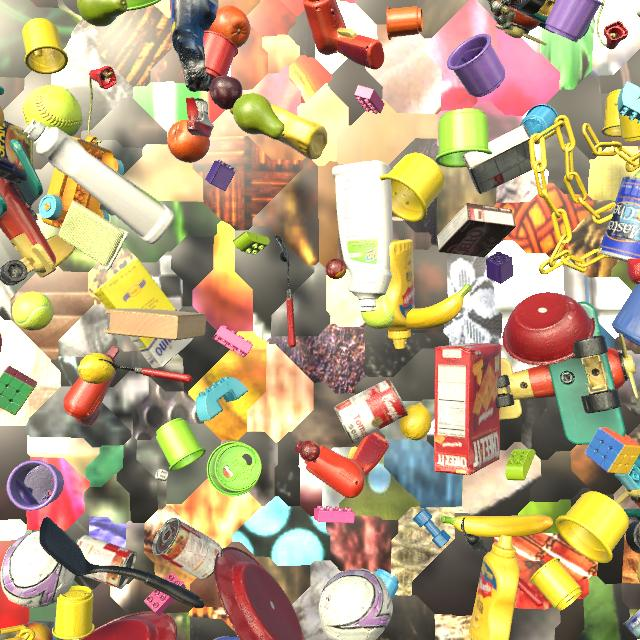ycb_002_master_chef_can: (598, 176, 640, 262), (213, 636, 264, 640)
ycb_003_cracker_box: (434, 343, 501, 475)
ycb_004_sugar_box: (93, 259, 194, 369)
ycb_005_tomato_soup_can: (334, 378, 408, 443), (152, 517, 222, 580), (75, 534, 137, 589)
ycb_006_mustard_bottle: (230, 93, 328, 160), (469, 533, 520, 640), (385, 239, 415, 349)
ycb_007_tuna_fish_can: (623, 609, 640, 639)
ycb_008_pudding_box: (462, 124, 537, 194), (437, 203, 516, 257)
ycb_010_potted_meat_can: (0, 120, 33, 184)
ycb_011_banana: (406, 283, 472, 330), (441, 514, 553, 537), (637, 560, 640, 583)
ycb_012_strawberry: (627, 258, 640, 284)
ycb_013_apple: (0, 333, 2, 353)
ycb_014_lemon: (399, 402, 432, 440), (77, 353, 115, 384)
ycb_015_peach: (16, 622, 53, 640), (0, 107, 4, 126)
ycb_016_pear: (233, 93, 284, 140), (77, 0, 127, 27)
ycb_017_orange: (167, 119, 210, 163), (209, 5, 251, 48)
ycb_018_plum: (210, 76, 242, 110)
